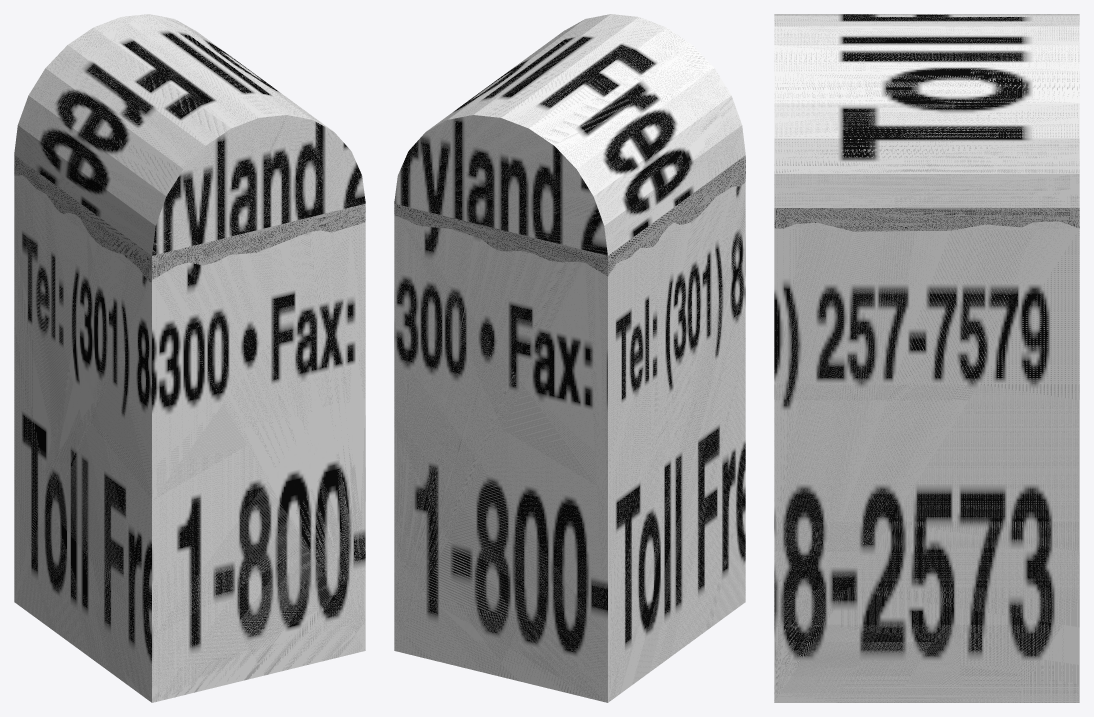
3 renders of one model, left to right at view 1: azimuth 30°, elevation 25°; view 2: azimuth 150°, elevation 25°; view 3: azimuth 270°, elevation 25°, orthographic. The views are drawn at different scales.
Parts seen in each view (by area): view 1: mesh1_mesh1-geometry; view 2: mesh1_mesh1-geometry; view 3: mesh1_mesh1-geometry.
Part boxes in pixels (box(x1,y1,x2,y2)): mesh1_mesh1-geometry: box(14, 14, 365, 702); mesh1_mesh1-geometry: box(394, 14, 745, 702); mesh1_mesh1-geometry: box(774, 14, 1079, 702).
Bounding box in the file's own units: 0.3431 × 0.8575 × 0.3835.
